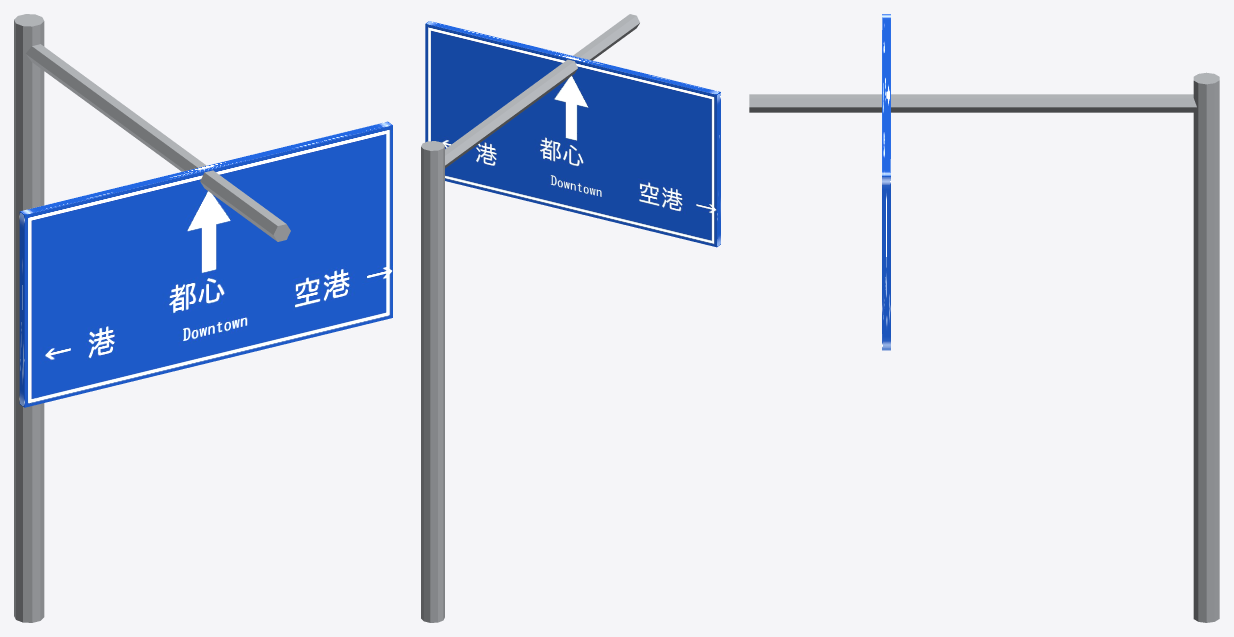
The model's file is road_sign.glb.
3 views of the same model, side by side, from view 1: azimuth 30°, elevation 25°; view 2: azimuth 150°, elevation 25°; view 3: azimuth 270°, elevation 25° (orthographic). The views are drawn at different scales.
Visible parts, largest first — view 1: road_sign; view 2: road_sign; view 3: road_sign.
Part boxes in pixels (left/top/right/bottom): road_sign: left=14, top=14, right=392, bottom=622; road_sign: left=421, top=14, right=720, bottom=622; road_sign: left=749, top=14, right=1219, bottom=622.
Bounding box in the file's own units: 4.2 × 6.5 × 5.14.
Materials: 2 (1 with a texture image).
